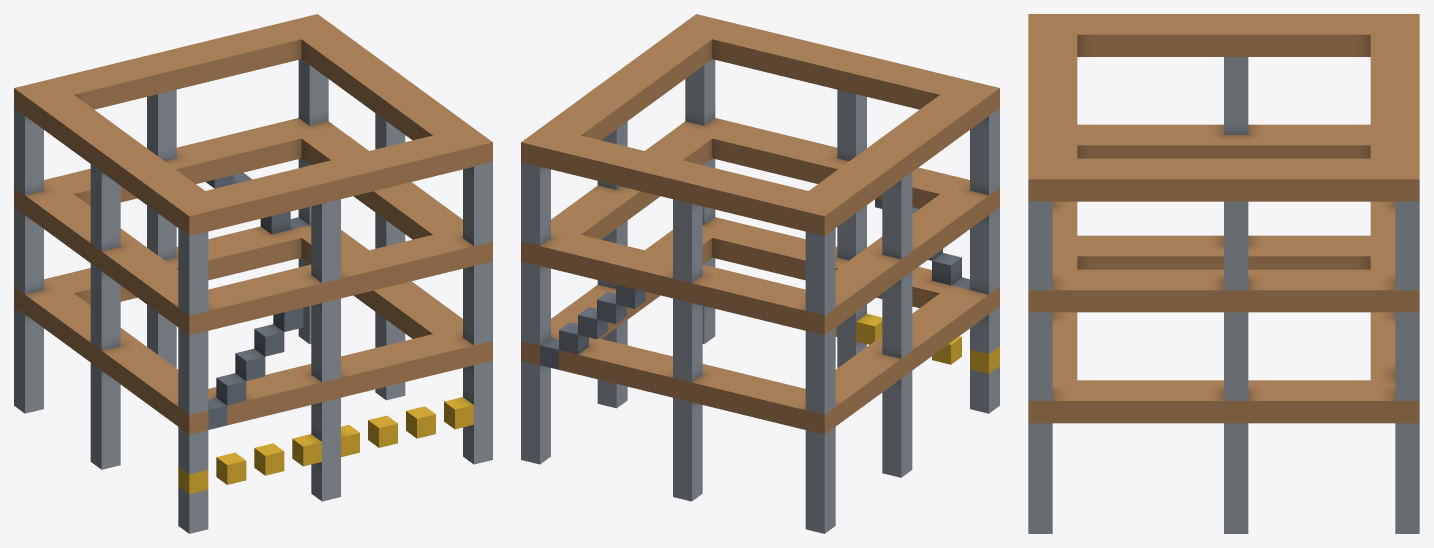
File: cm_scaffold.glb
The picture shows the model from 3 angles, left to right: view 1: azimuth 30°, elevation 25°; view 2: azimuth 150°, elevation 25°; view 3: azimuth 270°, elevation 25°; orthographic projection. The views are drawn at different scales.
Visible parts, largest first — view 1: cm_scaffold_body; view 2: cm_scaffold_body; view 3: cm_scaffold_body.
Boxes of the visible parts, x1=… form: cm_scaffold_body: x1=14, y1=14, x2=492, y2=533; cm_scaffold_body: x1=521, y1=14, x2=999, y2=533; cm_scaffold_body: x1=1028, y1=14, x2=1419, y2=533.
Bounding box in the file's own units: 1 × 1 × 1.
Materials: 1 (1 with a texture image).
